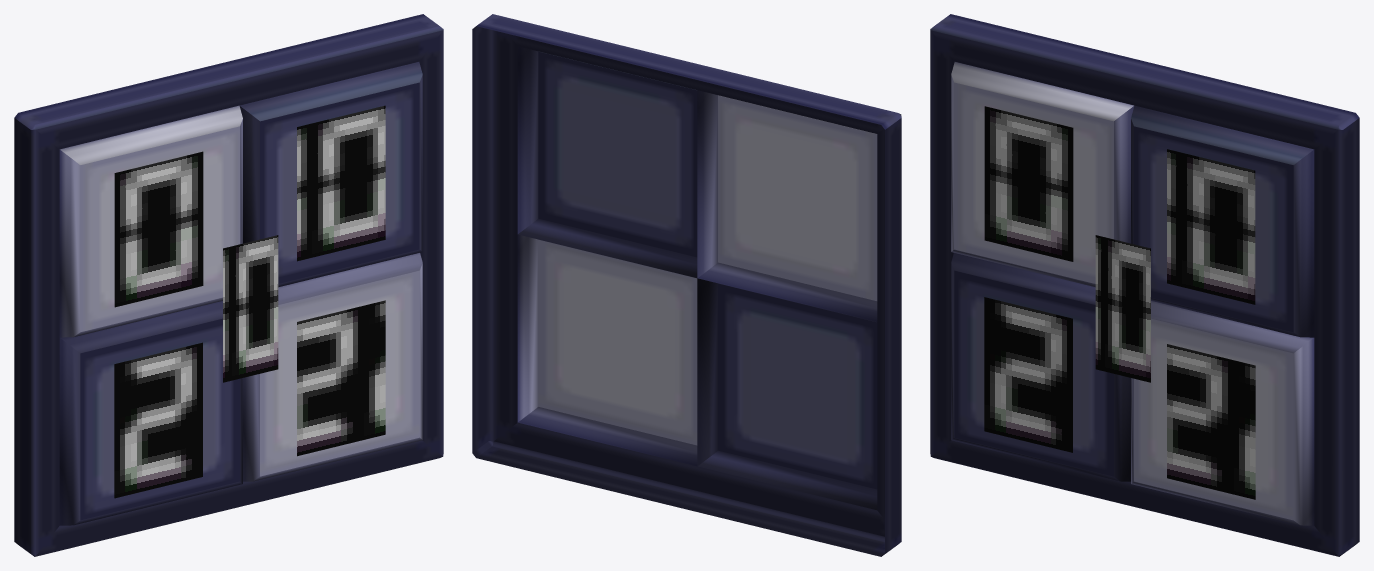
Rendered from rmk_mnc_wall.dae.
3 views of the same model, side by side, from view 1: azimuth 30°, elevation 25°; view 2: azimuth 150°, elevation 25°; view 3: azimuth 330°, elevation 25° (orthographic).
Parts seen in each view (by area): view 1: rmk_mnc_wall; view 2: rmk_mnc_wall; view 3: rmk_mnc_wall.
Part boxes in pixels (x1,y1,x2,y2): rmk_mnc_wall: [14, 14, 443, 556]; rmk_mnc_wall: [472, 14, 901, 556]; rmk_mnc_wall: [930, 14, 1359, 556].
Size of the model in its own units: 26.16 by 26.16 by 3.44.
Materials: 3 (3 with a texture image).
